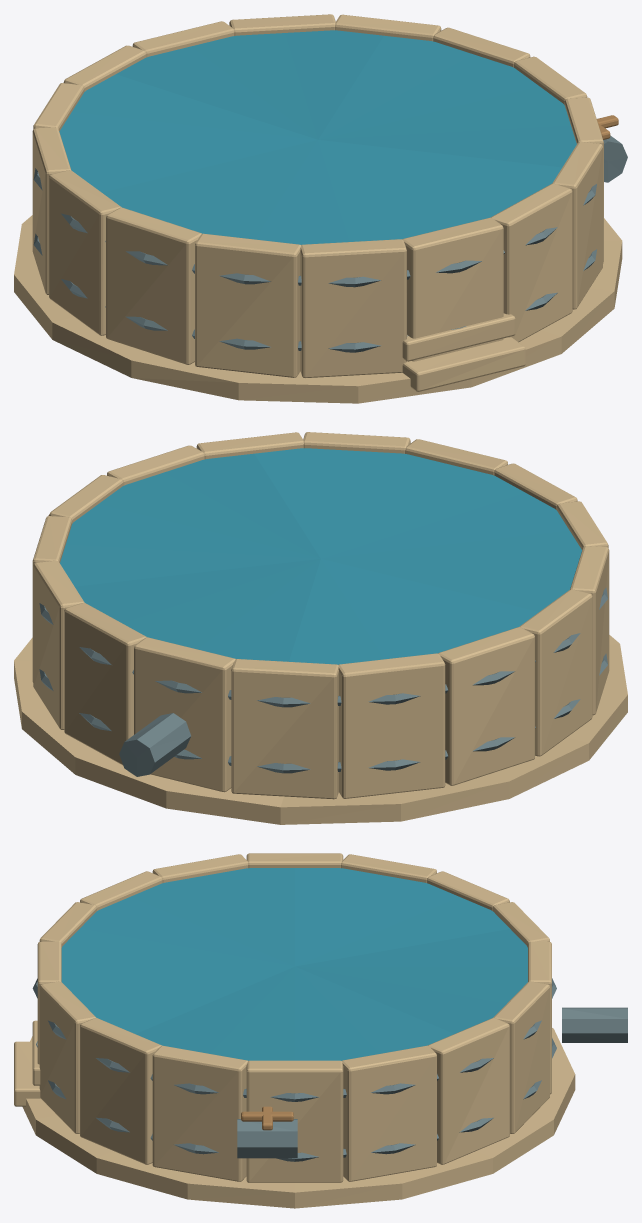
Rendered from Reservoir.glb.
3 renders of one model, top to bottom at view 1: azimuth 30°, elevation 25°; view 2: azimuth 150°, elevation 25°; view 3: azimuth 270°, elevation 25°, orthographic. The views are drawn at different scales.
Visible parts, largest first — view 1: reservoir-static-reservoir-concrete-mat, reservoir-static-reservoir-water-mat, reservoir-static-reservoir-dark-iron-mat; view 2: reservoir-static-reservoir-concrete-mat, reservoir-static-reservoir-water-mat, reservoir-static-reservoir-dark-iron-mat; view 3: reservoir-static-reservoir-concrete-mat, reservoir-static-reservoir-water-mat, reservoir-static-reservoir-dark-iron-mat, reservoir-static-reservoir-brass-mat.
Part boxes in pixels (box(x1,y1,x2,y2)): reservoir-static-reservoir-concrete-mat: box(14, 14, 622, 403); reservoir-static-reservoir-water-mat: box(59, 30, 576, 244); reservoir-static-reservoir-dark-iron-mat: box(33, 135, 627, 352); reservoir-static-reservoir-concrete-mat: box(14, 432, 627, 824); reservoir-static-reservoir-water-mat: box(60, 448, 581, 664); reservoir-static-reservoir-dark-iron-mat: box(39, 587, 607, 776); reservoir-static-reservoir-concrete-mat: box(14, 853, 575, 1208); reservoir-static-reservoir-water-mat: box(61, 868, 527, 1060); reservoir-static-reservoir-dark-iron-mat: box(32, 978, 627, 1161); reservoir-static-reservoir-brass-mat: box(241, 1106, 293, 1130).
Size of the model in its own units: 5.27 by 1.29 by 5.59.
